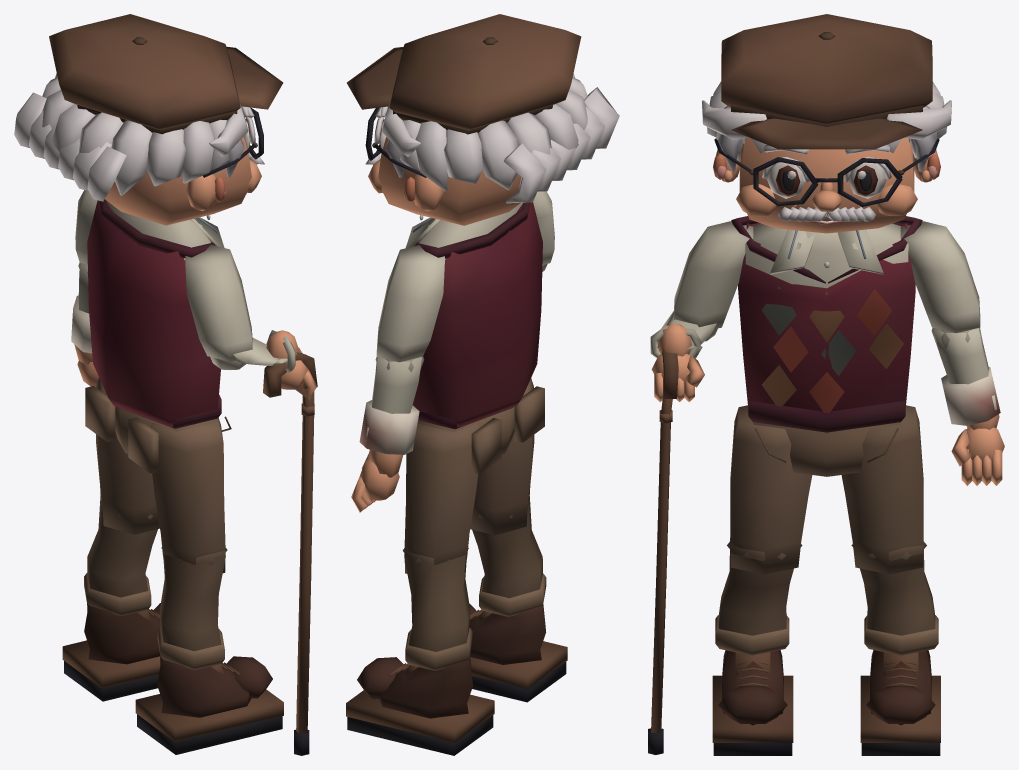
The model's file is npc.civilian-elderly.aftermath.lod1.glb.
The picture shows the model from 3 angles, left to right: view 1: azimuth 30°, elevation 25°; view 2: azimuth 150°, elevation 25°; view 3: azimuth 270°, elevation 25°; orthographic projection.
Visible parts, largest first — view 1: head, torso, footR, legR, footL, handR, shinR, armR, shinL, legL, hip, foreArmR (+3 smaller); view 2: head, torso, footL, legL, footR, shinL, armL, shinR, foreArmL, legR, hip, handL (+1 smaller); view 3: head, torso, legR, legL, footR, footL, handR, shinL, shinR, armL, armR, foreArmL (+3 smaller).
Boxes of the visible parts, box(x1,y1,x2,y2) form: head: box(14, 14, 283, 225); torso: box(87, 199, 224, 428); footR: box(135, 655, 283, 754); legR: box(150, 418, 225, 573); footL: box(62, 603, 160, 701); handR: box(263, 330, 317, 755); shinR: box(157, 547, 227, 670); armR: box(185, 245, 252, 361); shinL: box(84, 495, 157, 616); legL: box(96, 377, 159, 534); hip: box(85, 386, 231, 473); foreArmR: box(210, 330, 295, 372); head: box(347, 14, 619, 225); torso: box(405, 202, 542, 429); footL: box(346, 656, 494, 755); legL: box(404, 423, 479, 573); footR: box(469, 603, 567, 702); shinL: box(402, 547, 472, 670); armL: box(376, 245, 444, 362); shinR: box(472, 496, 546, 616); foreArmL: box(359, 356, 424, 454); legR: box(470, 378, 534, 535); hip: box(417, 386, 544, 473); handL: box(351, 449, 403, 512); head: box(702, 14, 951, 233); torso: box(731, 216, 922, 432); legR: box(730, 405, 812, 574); legL: box(841, 405, 923, 574); footR: box(712, 650, 793, 755); footL: box(860, 650, 940, 755); handR: box(648, 323, 704, 754); shinL: box(851, 541, 938, 655); shinR: box(715, 538, 802, 655); armL: box(900, 221, 980, 333); armR: box(674, 221, 753, 329); foreArmL: box(931, 327, 1000, 425).
Size of the model in its own units: 0.5679 by 1.78 by 0.847.
